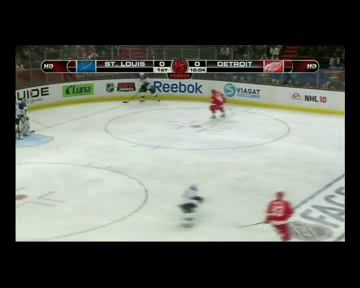normal: (262, 185, 298, 237), (205, 83, 235, 122)
